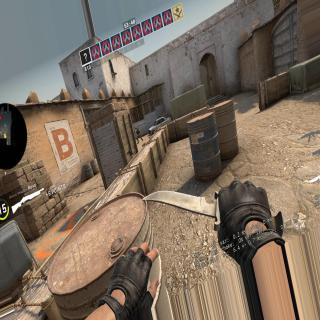CT-Body: (134, 126, 142, 141)
CT-Head: (135, 126, 137, 129)
